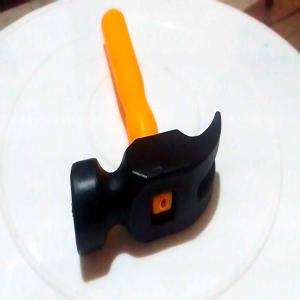martelo: (70, 5, 222, 255)
